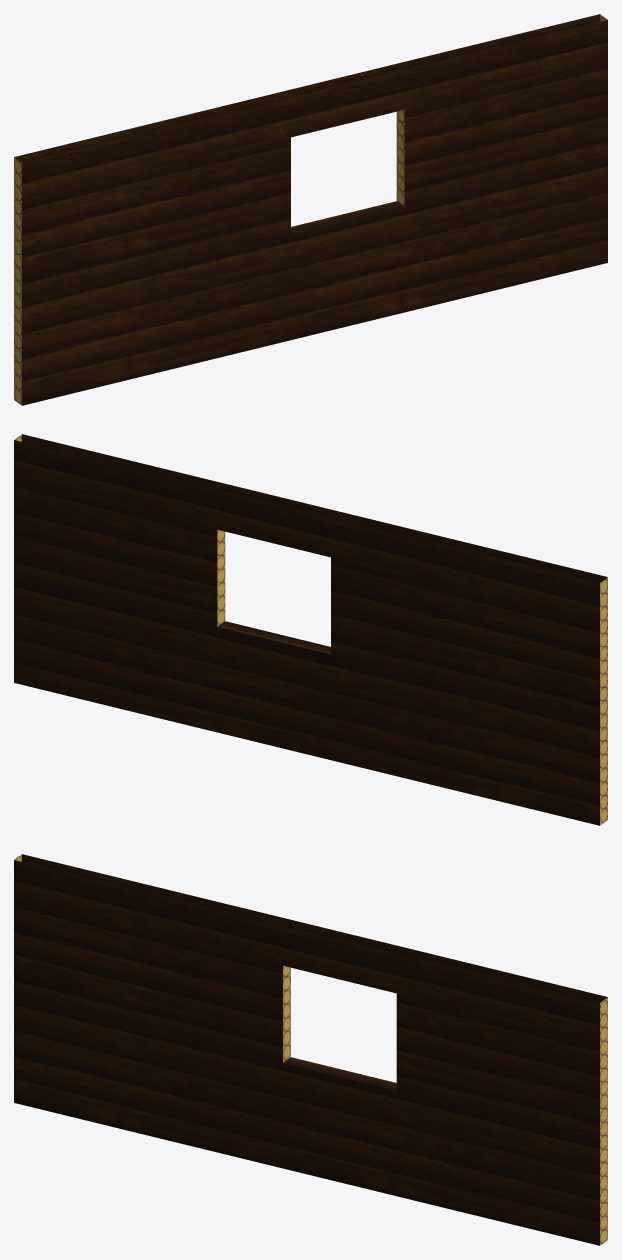
File: Wall with window house 1.fbx
The picture shows the model from 3 angles, top to bottom: view 1: azimuth 30°, elevation 25°; view 2: azimuth 150°, elevation 25°; view 3: azimuth 330°, elevation 25°; orthographic projection.
Visible parts, largest first — view 1: Wall_House_1_and_3_window1; view 2: Wall_House_1_and_3_window1; view 3: Wall_House_1_and_3_window1.
Part boxes in pixels (x1=…): Wall_House_1_and_3_window1: x1=14, y1=14, x2=607, y2=405; Wall_House_1_and_3_window1: x1=14, y1=434, x2=607, y2=825; Wall_House_1_and_3_window1: x1=14, y1=854, x2=607, y2=1245.
Size of the model in its own units: 7.25 by 2.87 by 0.1702.
